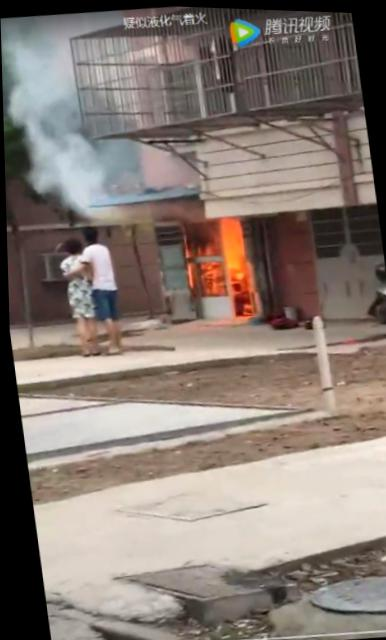fire: (216, 215, 253, 317), (193, 256, 224, 292), (191, 237, 215, 253), (182, 259, 191, 288)
